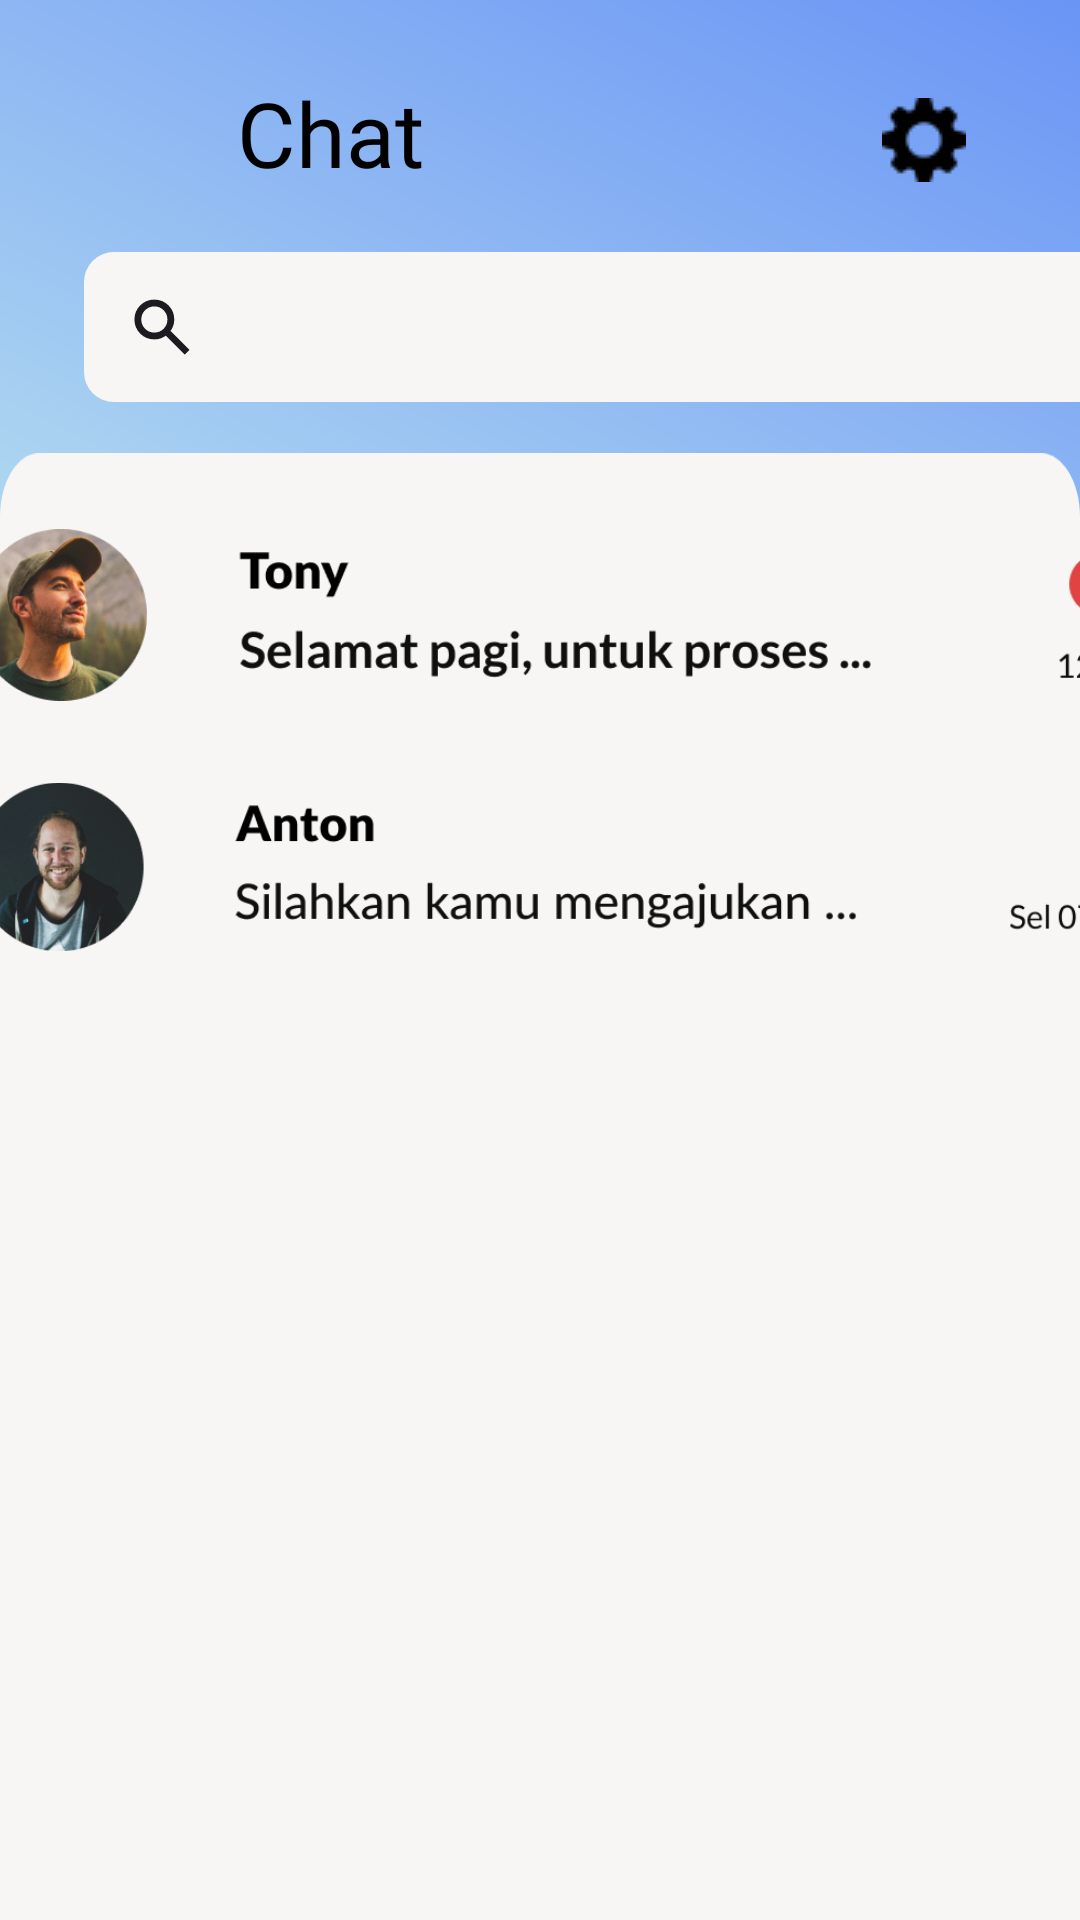

Named icons in this screenshot (1080 x 1920) and their centers, [x,y]:
setting: [924,140]
